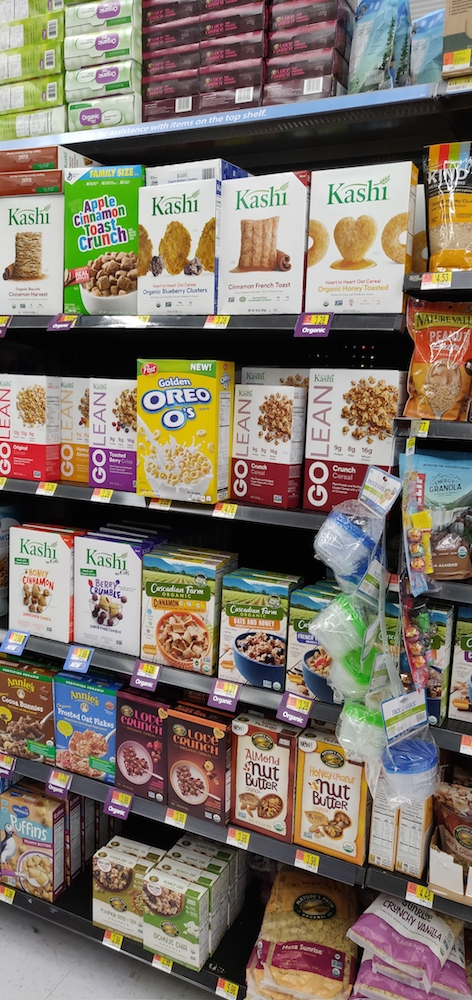Oreo Golden-568301011: (142, 360, 223, 503)
